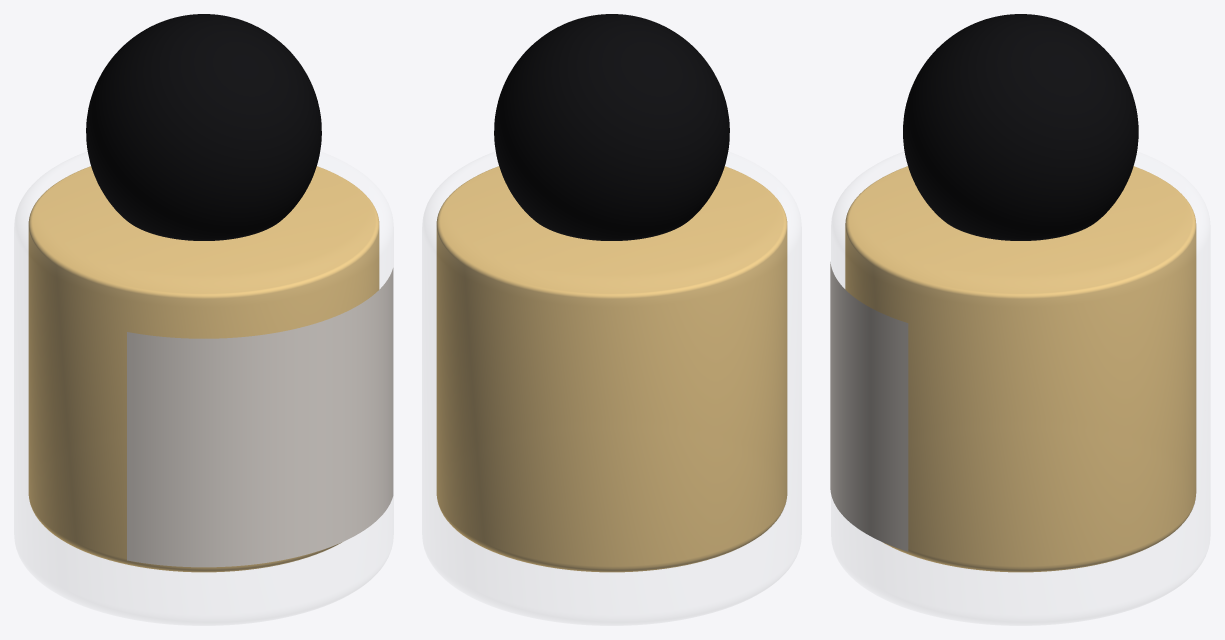
File: crash_desktop.glb
3 renders of one model, left to right at view 1: azimuth 30°, elevation 25°; view 2: azimuth 150°, elevation 25°; view 3: azimuth 270°, elevation 25°, orthographic.
Visible parts, largest first — view 1: xelle_fragrance_liquid, xelle_front_label, xelle_spherical_black_cap; view 2: xelle_fragrance_liquid, xelle_spherical_black_cap; view 3: xelle_fragrance_liquid, xelle_spherical_black_cap, xelle_front_label.
Part boxes in pixels (x1,y1,x2,y2): xelle_fragrance_liquid: (28, 166, 379, 572); xelle_front_label: (127, 268, 393, 567); xelle_spherical_black_cap: (86, 14, 321, 240); xelle_fragrance_liquid: (436, 166, 787, 572); xelle_spherical_black_cap: (494, 14, 729, 240); xelle_fragrance_liquid: (845, 166, 1196, 572); xelle_spherical_black_cap: (903, 14, 1138, 240); xelle_front_label: (830, 262, 908, 551).
Size of the model in its own units: 2.35 by 3.6 by 2.35.
Materials: 5 (1 with a texture image).
